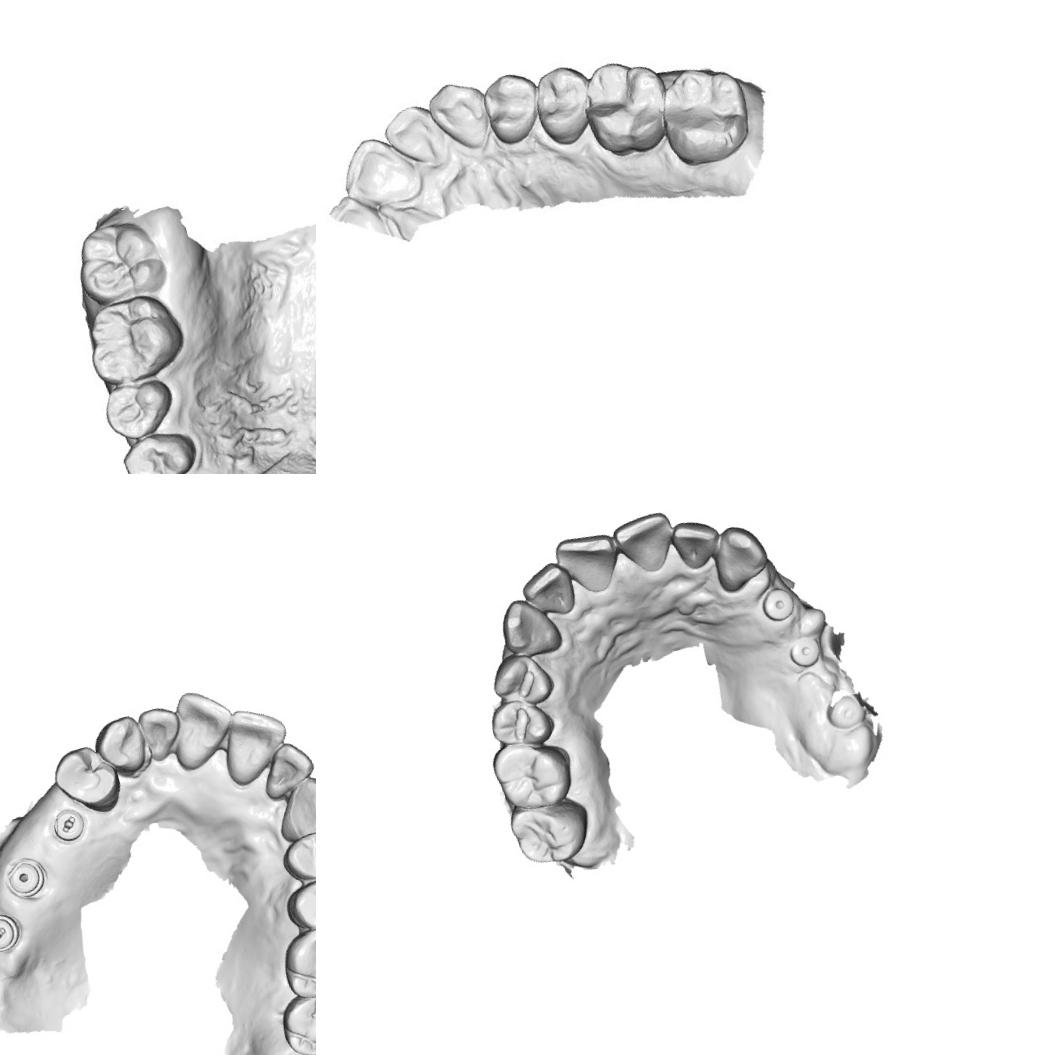canine: (428, 75, 502, 158), (704, 518, 775, 596), (492, 588, 564, 664), (88, 709, 152, 781), (263, 772, 316, 846)
implant: (0, 852, 53, 904), (819, 680, 870, 734), (755, 580, 799, 626), (782, 628, 825, 672)
implant_minus: (46, 803, 90, 846), (0, 908, 25, 957)
incisor: (330, 124, 430, 224), (158, 680, 243, 776), (376, 96, 457, 184), (550, 525, 627, 600), (608, 507, 682, 580), (221, 697, 293, 764), (516, 556, 581, 624), (252, 736, 316, 802), (133, 700, 188, 766), (667, 512, 726, 573)
molar: (652, 53, 760, 172), (76, 285, 191, 390), (572, 52, 678, 164), (66, 210, 171, 310), (485, 728, 582, 819), (504, 788, 598, 873), (275, 919, 316, 1007), (274, 984, 316, 1055)
premolar: (46, 736, 130, 824), (95, 369, 182, 446), (527, 60, 598, 151), (479, 67, 545, 147), (484, 644, 558, 713), (484, 689, 558, 754), (115, 422, 204, 474), (275, 823, 316, 888), (280, 871, 316, 938)
